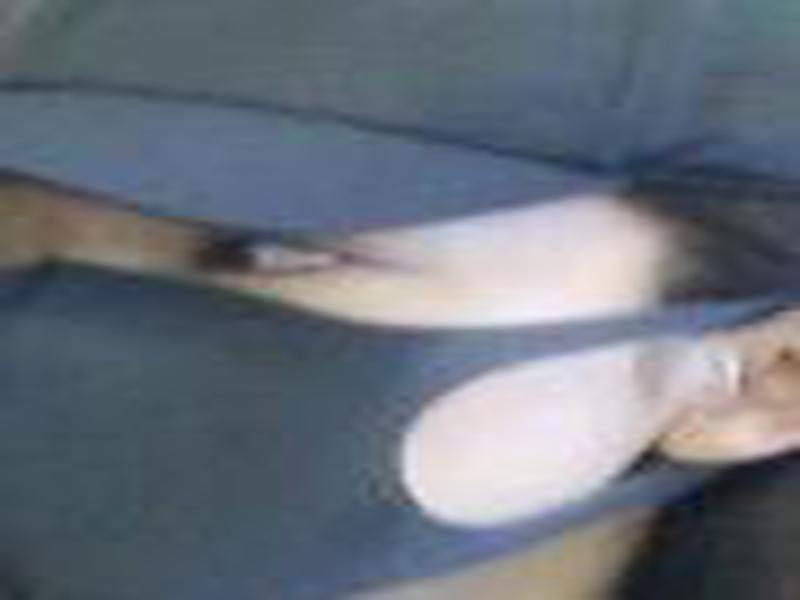with_mask: (1, 83, 795, 595)
